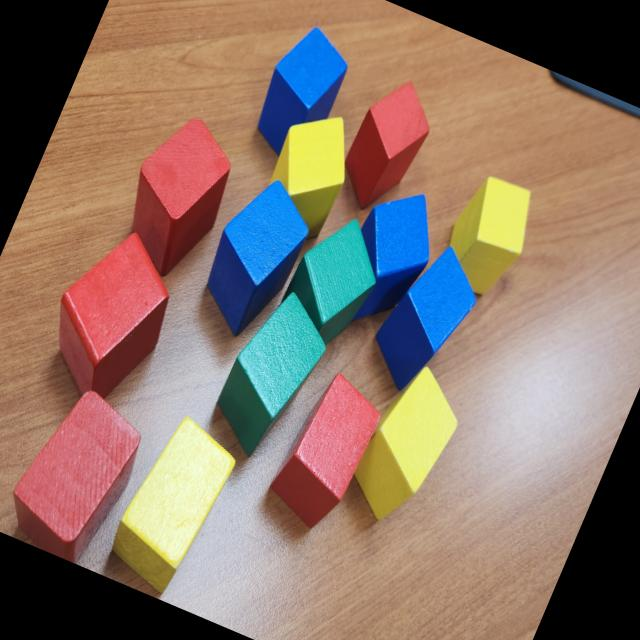blue: (186, 166, 324, 348), (358, 232, 492, 406), (324, 177, 451, 340), (242, 17, 358, 168)
green: (200, 280, 344, 470), (272, 202, 396, 352)
red: (28, 214, 195, 416), (0, 377, 157, 569), (103, 104, 250, 288), (259, 363, 392, 538), (329, 68, 445, 221)
yellow: (98, 408, 244, 601), (339, 356, 474, 536), (253, 101, 367, 241), (430, 168, 544, 306)
